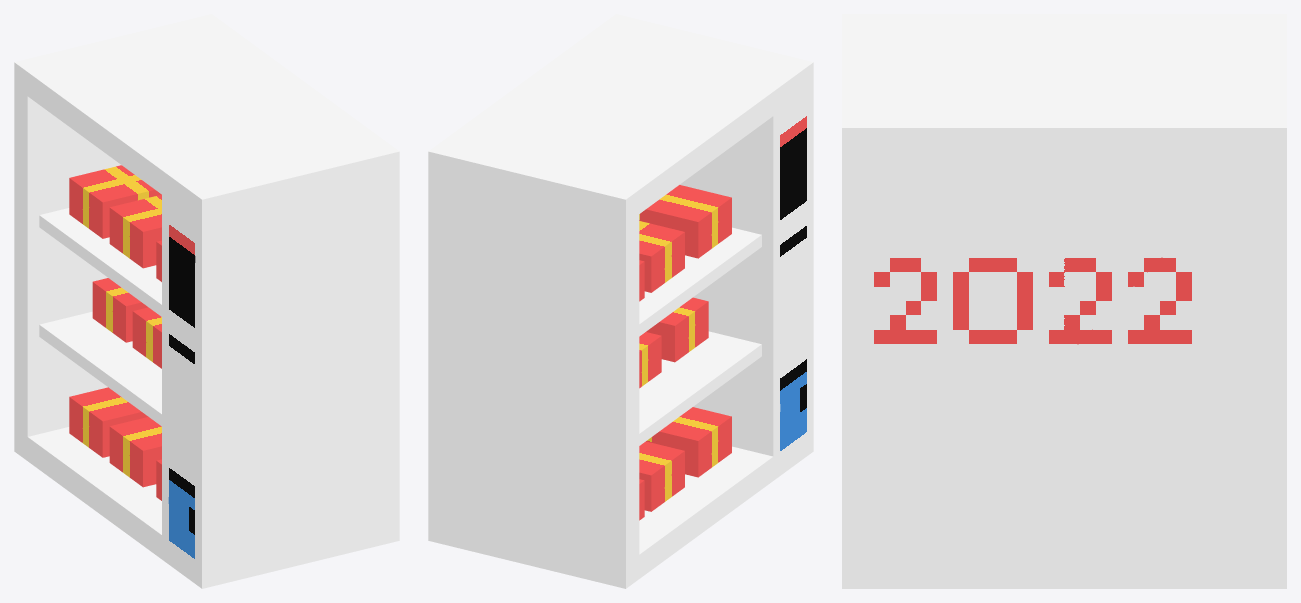
Rendered from 幸运盲盒抽奖机.gltf.
The picture shows the model from 3 angles, left to right: view 1: azimuth 30°, elevation 25°; view 2: azimuth 150°, elevation 25°; view 3: azimuth 270°, elevation 25°; orthographic projection. The views are drawn at different scales.
Parts seen in each view (by area): view 1: Object; view 2: Object; view 3: Object.
Boxes of the visible parts, left/top/right/bottom form: Object: left=14, top=14, right=399, bottom=588; Object: left=428, top=14, right=813, bottom=588; Object: left=842, top=14, right=1286, bottom=588.
Bounding box in the file's own units: 17 × 32 × 28.
Materials: 1 (1 with a texture image).
